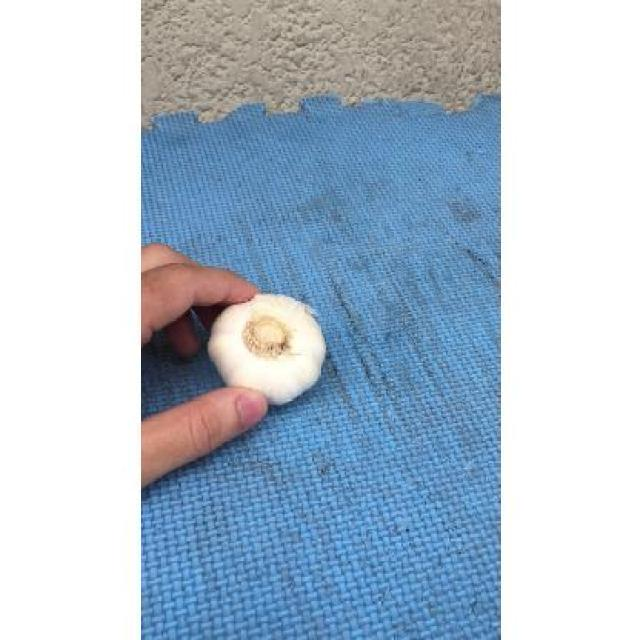Garlic: (190, 277, 344, 426)
